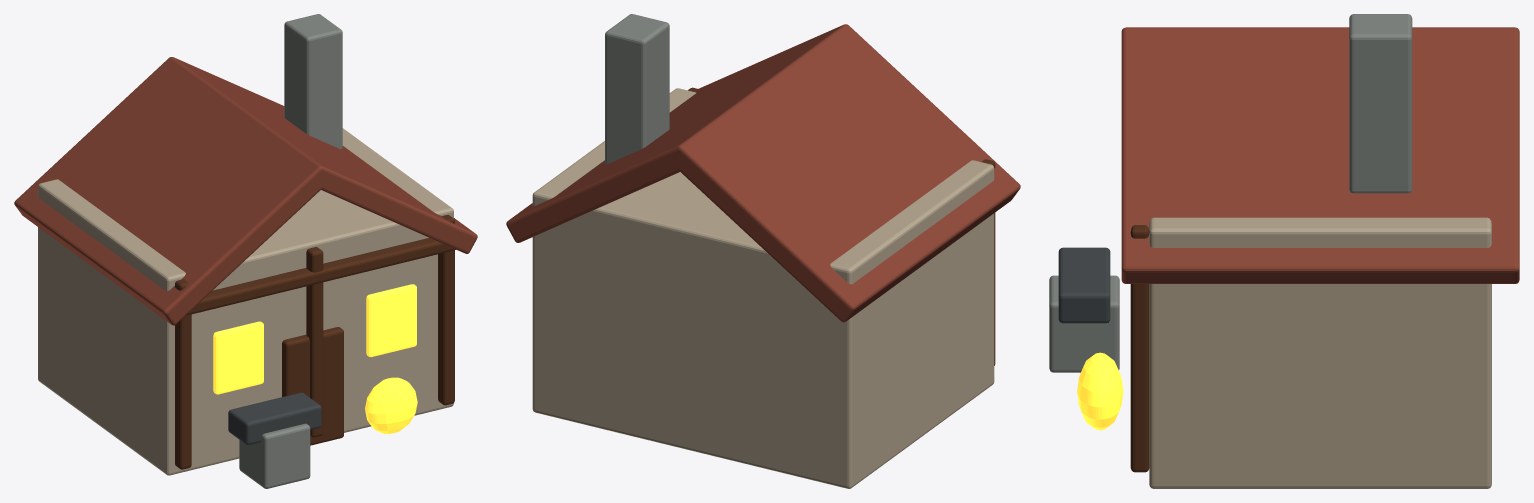
The model's file is SM_Blacksmith.fbx.
3 views of the same model, side by side, from view 1: azimuth 30°, elevation 25°; view 2: azimuth 150°, elevation 25°; view 3: azimuth 270°, elevation 25° (orthographic). The views are drawn at different scales.
Visible parts, largest first — view 1: SM_Blacksmith; view 2: SM_Blacksmith; view 3: SM_Blacksmith.
Boxes of the visible parts, x1=… form: SM_Blacksmith: x1=14, y1=14, x2=477, y2=488; SM_Blacksmith: x1=506, y1=14, x2=1020, y2=488; SM_Blacksmith: x1=1049, y1=14, x2=1519, y2=488.
Size of the model in its own units: 513 by 508 by 515.
